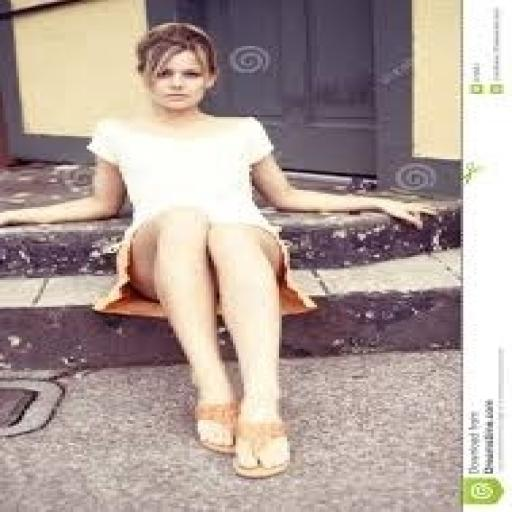sitting: (0, 21, 439, 479)
